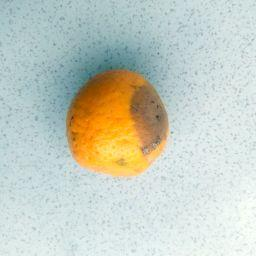Unripe: (67, 71, 168, 173)
